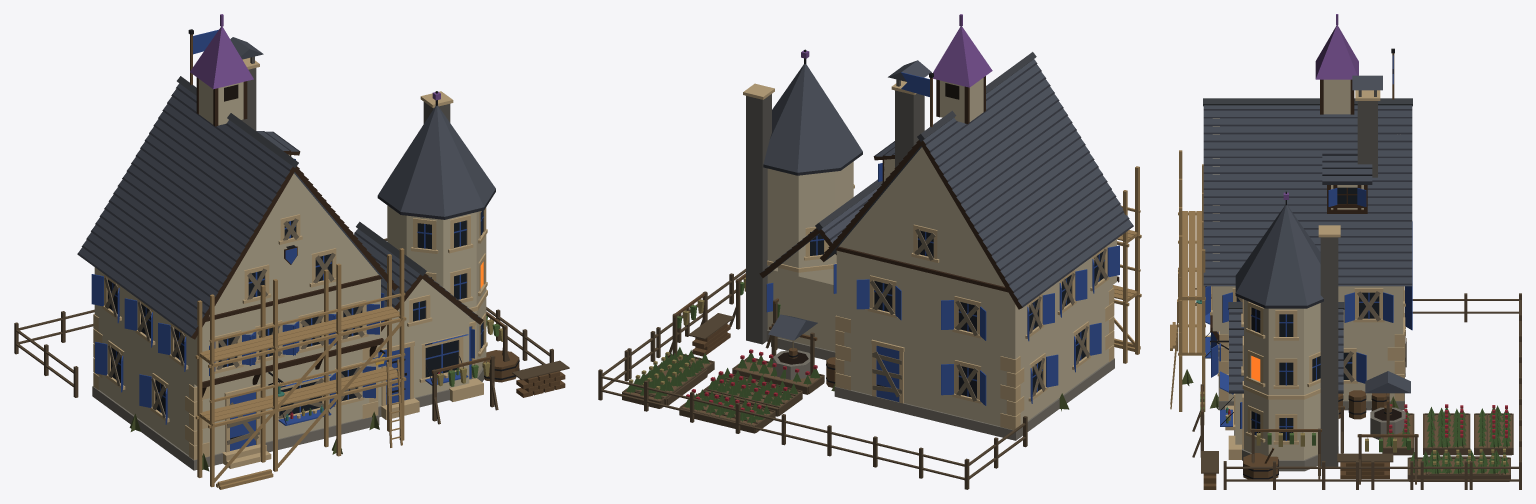
Rendered from alchimist.glb.
3 views of the same model, side by side, from view 1: azimuth 30°, elevation 25°; view 2: azimuth 150°, elevation 25°; view 3: azimuth 270°, elevation 25° (orthographic). The views are drawn at different scales.
Visible parts, largest first — view 1: Haus, Stufe3, Geruest, Stufe2, Stufe1, Leerstand; view 2: Haus, Stufe3, Stufe2, Stufe1, Leerstand, Geruest, Fahne; view 3: Haus, Stufe3, Stufe2, Stufe1, Geruest, Leerstand.
Boxes of the visible parts, left/top/right/bottom form: Haus: left=77, top=37, right=398, bottom=470; Stufe3: left=190, top=14, right=569, bottom=401; Geruest: left=195, top=248, right=406, bottom=489; Stufe2: left=256, top=131, right=509, bottom=421; Stufe1: left=14, top=238, right=553, bottom=424; Leerstand: left=104, top=218, right=379, bottom=471; Haus: left=820, top=52, right=1133, bottom=440; Stufe3: left=602, top=14, right=992, bottom=423; Stufe2: left=633, top=141, right=894, bottom=433; Stufe1: left=598, top=268, right=1027, bottom=489; Leerstand: left=831, top=228, right=1107, bottom=411; Geruest: left=1113, top=166, right=1141, bottom=363; Fahne: left=901, top=72, right=933, bottom=127; Haus: left=1195, top=75, right=1412, bottom=410; Stufe3: left=1201, top=14, right=1518, bottom=489; Stufe2: left=1210, top=150, right=1513, bottom=481; Stufe1: left=1192, top=293, right=1521, bottom=489; Geruest: left=1170, top=150, right=1205, bottom=411; Leerstand: left=1182, top=291, right=1406, bottom=409.
Size of the model in its own units: 15.86 by 15.37 by 13.83.
